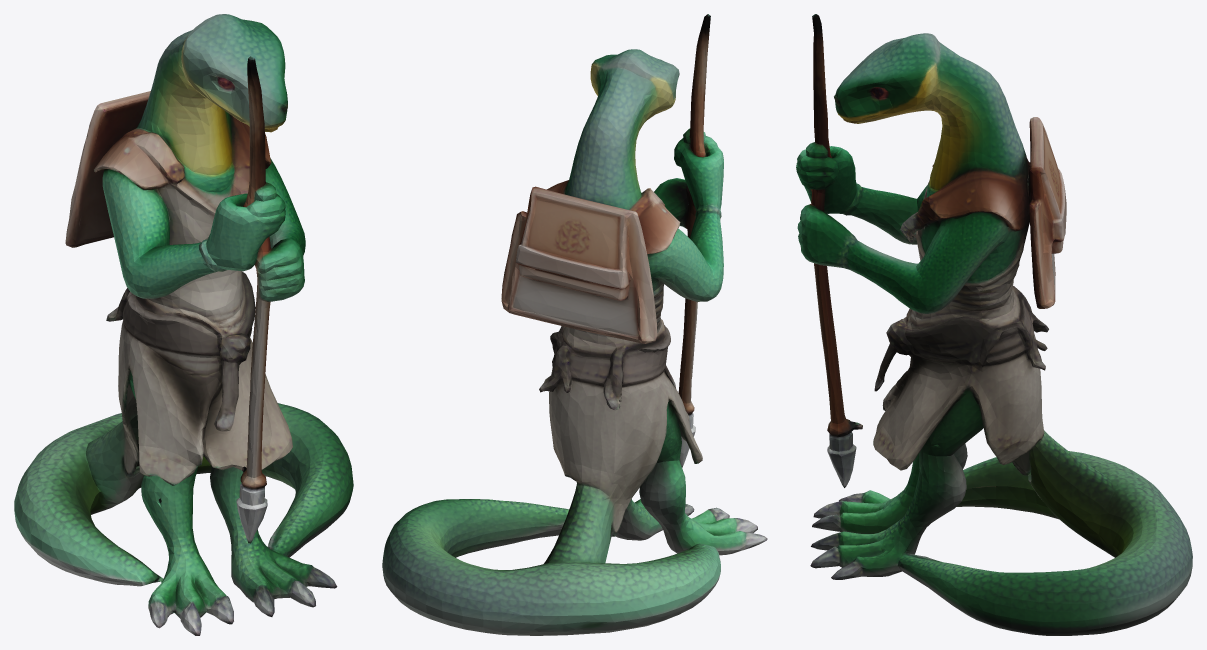
File: SerpentWarriorEnemy.glb
3 renders of one model, left to right at view 1: azimuth 30°, elevation 25°; view 2: azimuth 150°, elevation 25°; view 3: azimuth 270°, elevation 25°, orthographic. The views are drawn at different scales.
Size of the model in its own units: 58.67 by 100 by 67.46.
1 material, 1 textured.
